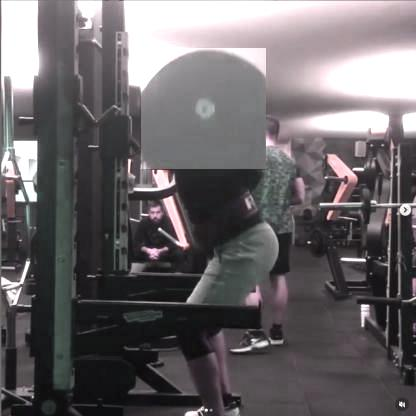barbell: (141, 49, 268, 170)
